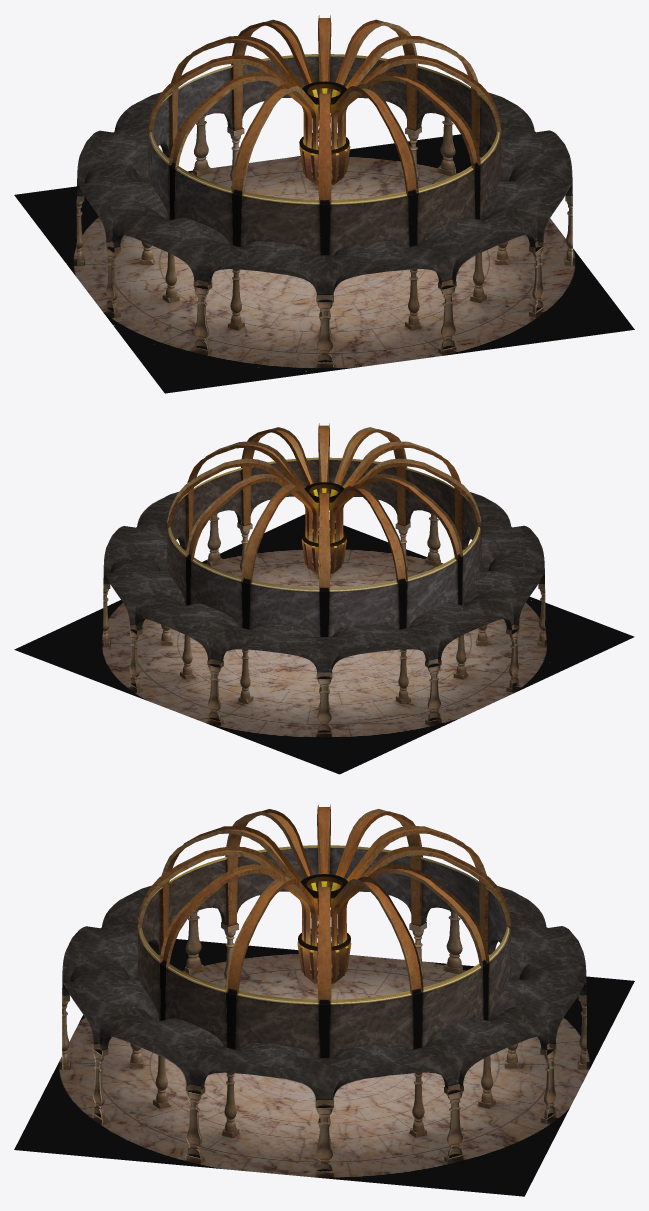
Rendered from GalleryRound_flatfloor_03.fbx.
3 views of the same model, one above another, from view 1: azimuth 30°, elevation 25°; view 2: azimuth 150°, elevation 25°; view 3: azimuth 270°, elevation 25° (orthographic). The views are drawn at different scales.
Parts seen in each view (by area): view 1: Arc, Floor, Rings; view 2: Arc, Floor, Rings; view 3: Arc, Floor, Rings.
Part boxes in pixels (left/top/right/bottom): Arc: left=76, top=15, right=572, bottom=366; Floor: left=14, top=134, right=634, bottom=393; Rings: left=299, top=81, right=349, bottom=154; Arc: left=103, top=423, right=545, bottom=734; Floor: left=14, top=514, right=634, bottom=774; Rings: left=302, top=482, right=346, bottom=546; Arc: left=62, top=804, right=586, bottom=1175; Floor: left=14, top=939, right=634, bottom=1196; Rings: left=298, top=874, right=350, bottom=950.
Bounding box in the file's own units: 87.48 × 33.81 × 87.48.
Materials: 3 (3 with a texture image).
